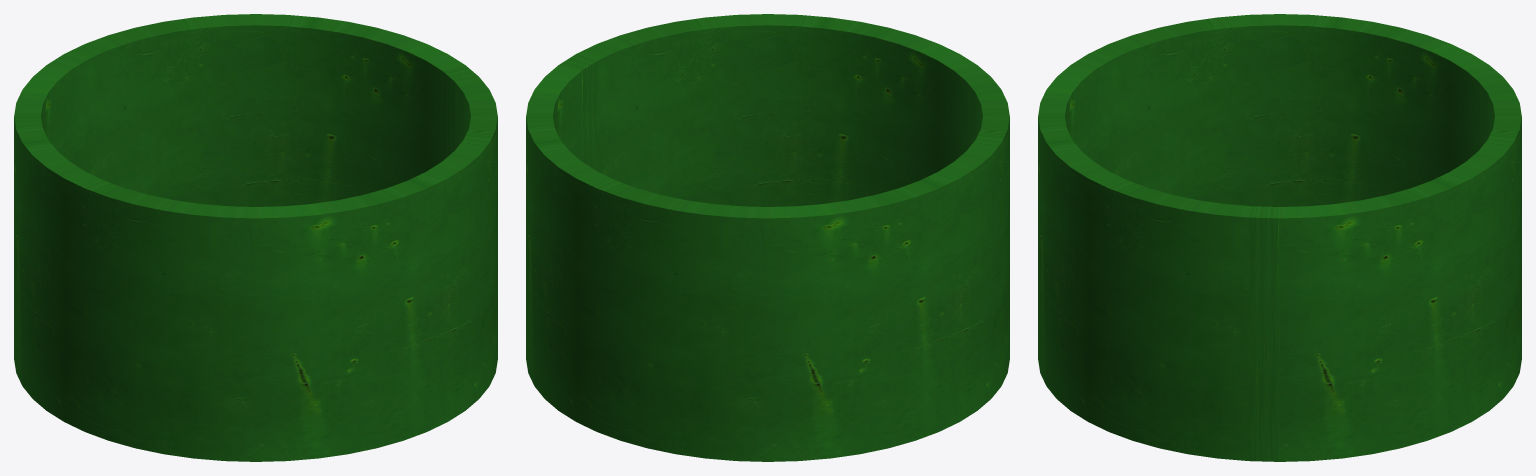
The model's file is pipe_body.glb.
3 renders of one model, left to right at view 1: azimuth 30°, elevation 25°; view 2: azimuth 150°, elevation 25°; view 3: azimuth 270°, elevation 25°, orthographic.
Visible parts, largest first — view 1: tube; view 2: tube; view 3: tube.
Boxes of the visible parts, x1=… form: tube: x1=14, y1=14, x2=497, y2=461; tube: x1=526, y1=14, x2=1009, y2=461; tube: x1=1038, y1=14, x2=1521, y2=461.
Size of the model in its own units: 1.8 by 1 by 1.8.
1 material, 1 textured.
